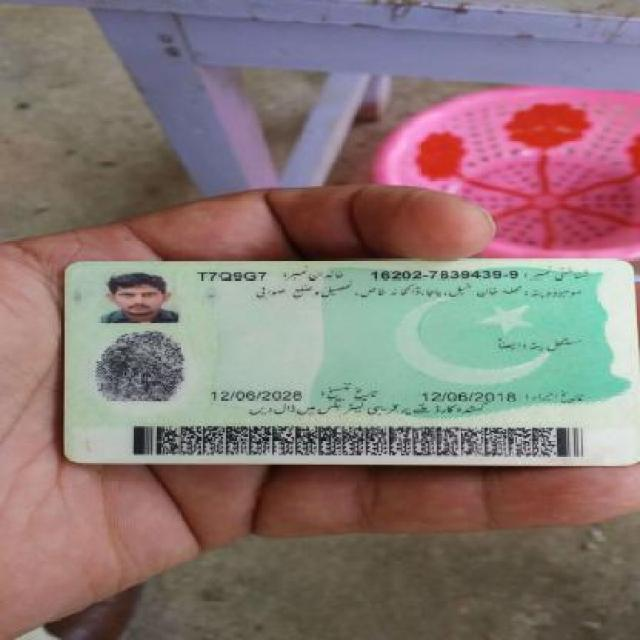Back: (46, 258, 632, 468)
